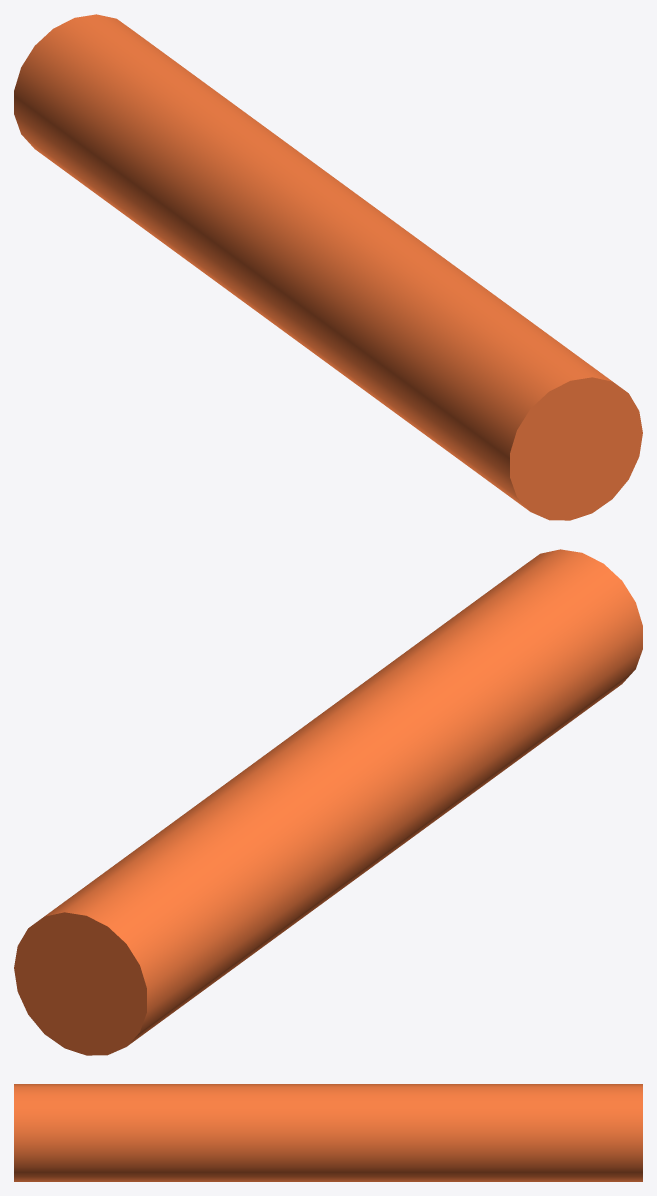
File: feed_coax_ShortingPin.obj
The picture shows the model from 3 angles, top to bottom: view 1: azimuth 30°, elevation 25°; view 2: azimuth 150°, elevation 25°; view 3: azimuth 270°, elevation 25°; orthographic projection. The views are drawn at different scales.
Bounding box in the file's own units: 3.16 × 3.17 × 20.39.
